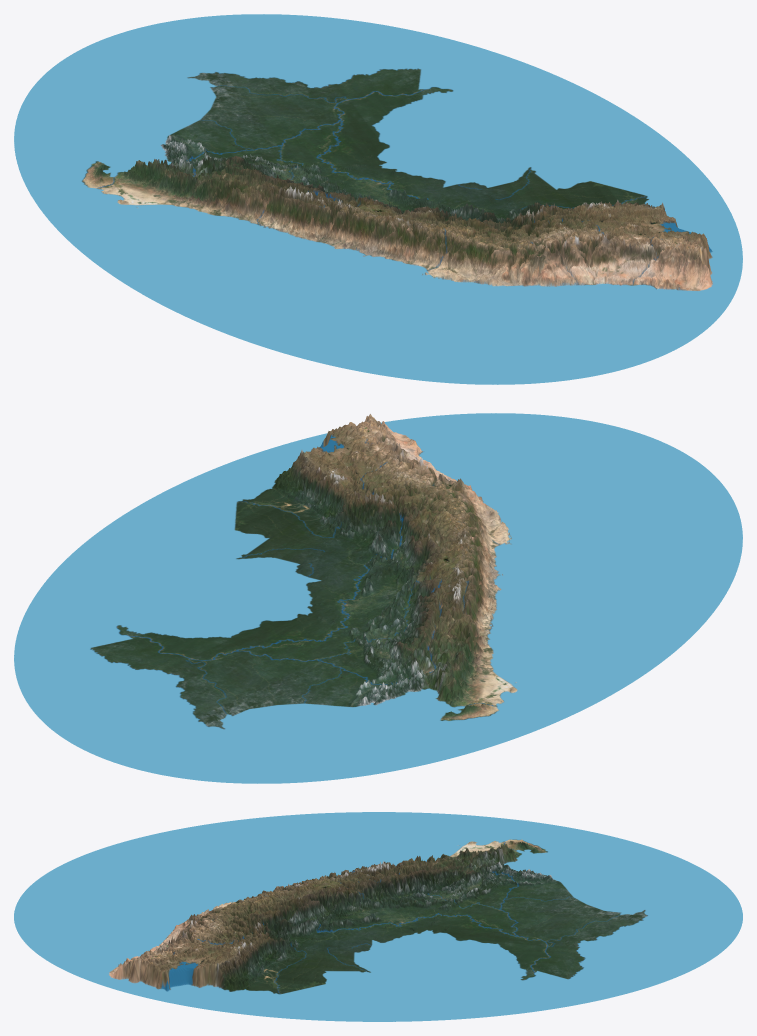
Rendered from PER-previa-terrain.glb.
3 views of the same model, one above another, from view 1: azimuth 30°, elevation 25°; view 2: azimuth 150°, elevation 25°; view 3: azimuth 270°, elevation 25° (orthographic). The views are drawn at different scales.
Visible parts, largest first — view 1: Peru; view 2: Peru; view 3: Peru.
Boxes of the visible parts, x1=… form: Peru: x1=14, y1=14, x2=742, y2=384; Peru: x1=14, y1=413, x2=742, y2=783; Peru: x1=14, y1=812, x2=742, y2=1021.
Size of the model in its own units: 1.62 by 0.0937 by 2.38.
Materials: 1 (1 with a texture image).
